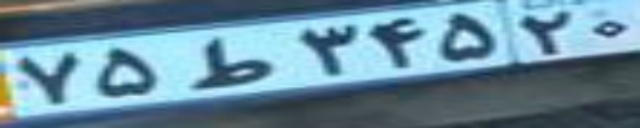0: (591, 20, 629, 39)
2: (521, 11, 575, 55)
3: (299, 23, 358, 74)
4: (365, 17, 425, 68)
5: (91, 47, 158, 98), (439, 14, 498, 61)
7: (17, 52, 81, 103)
taa: (182, 36, 274, 89)
